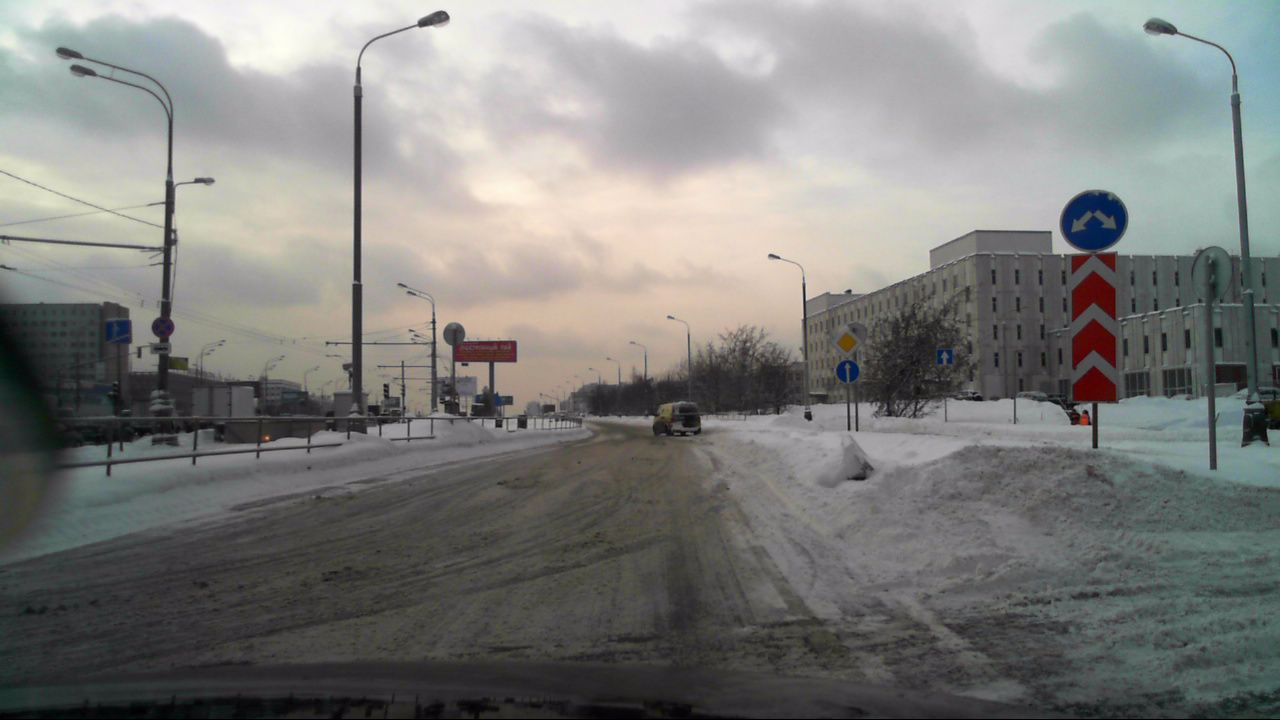No Parking: (150, 315, 177, 340)
